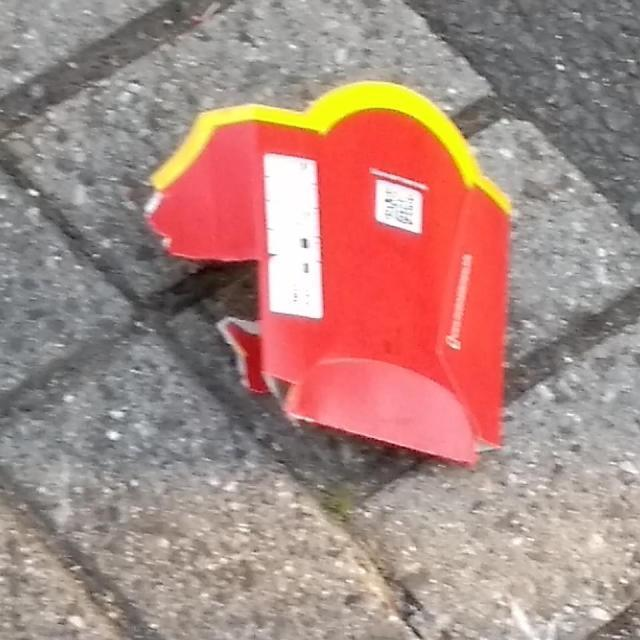Paper: (138, 76, 514, 472)
